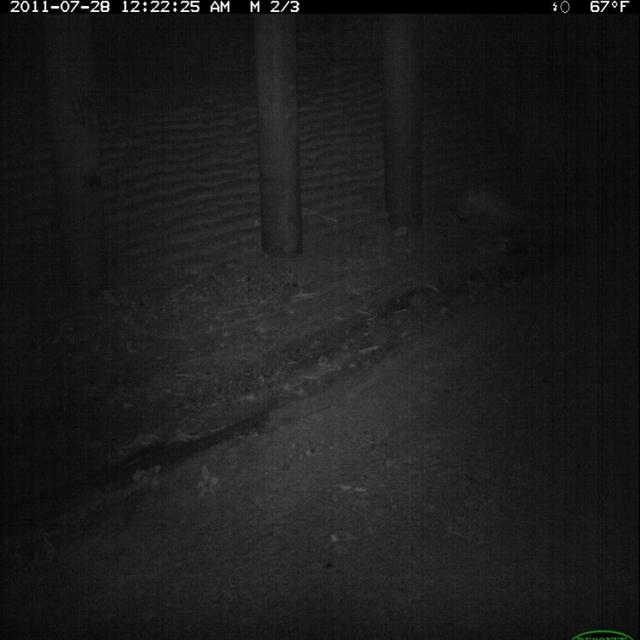bobcat: (2, 3, 640, 640)
